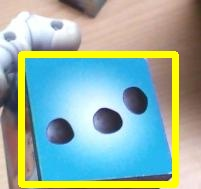Blue3: (21, 54, 175, 184)
